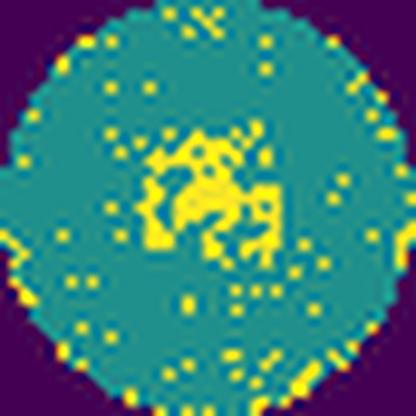Center: (134, 126, 288, 268)
